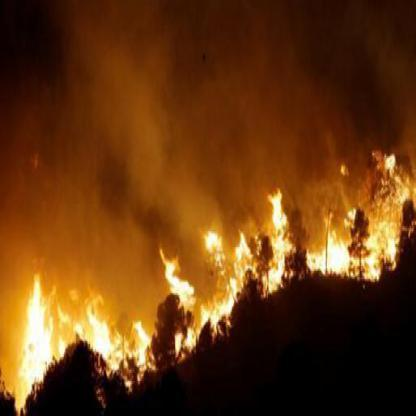fire: (2, 6, 154, 404), (264, 6, 414, 284), (154, 1, 263, 366)
